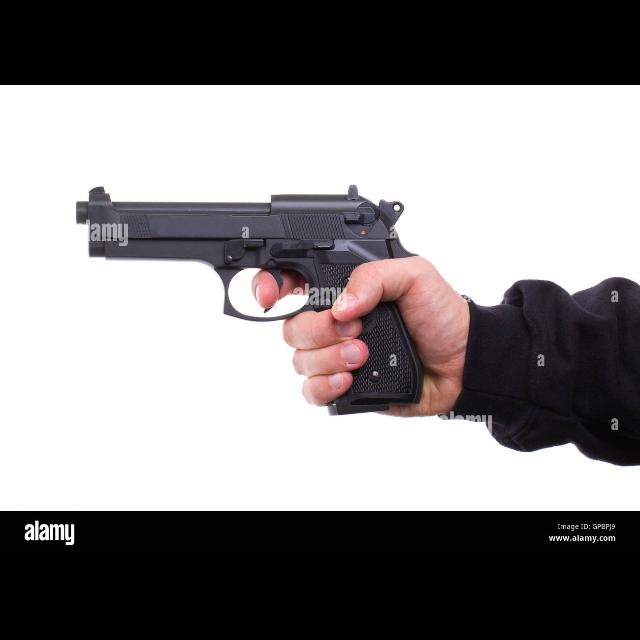handgun: (69, 180, 429, 424)
